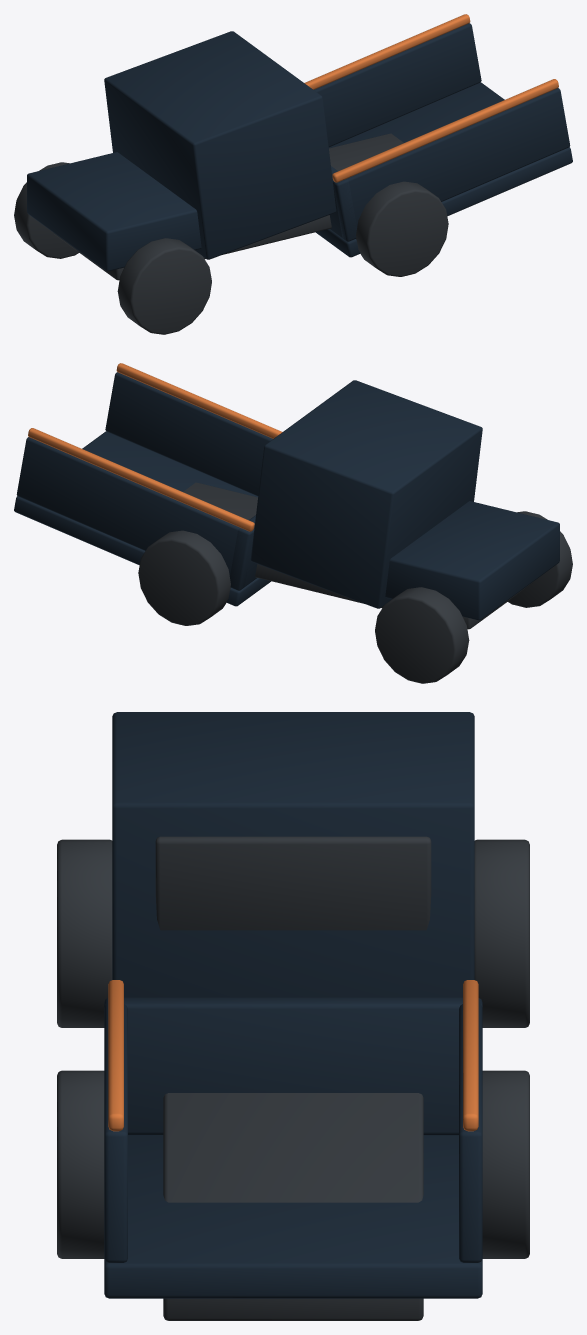
3 renders of one model, top to bottom at view 1: azimuth 30°, elevation 25°; view 2: azimuth 150°, elevation 25°; view 3: azimuth 270°, elevation 25°, orthographic. The views are drawn at different scales.
Parts seen in each view (by area): view 1: HerosTruckMark; view 2: HerosTruckMark; view 3: HerosTruckMark.
Part boxes in pixels (left/top/right/bottom): HerosTruckMark: left=14, top=14, right=572, bottom=334; HerosTruckMark: left=14, top=363, right=572, bottom=683; HerosTruckMark: left=57, top=712, right=529, bottom=1320.
Size of the model in its own units: 2.57 by 1 by 1.14.
